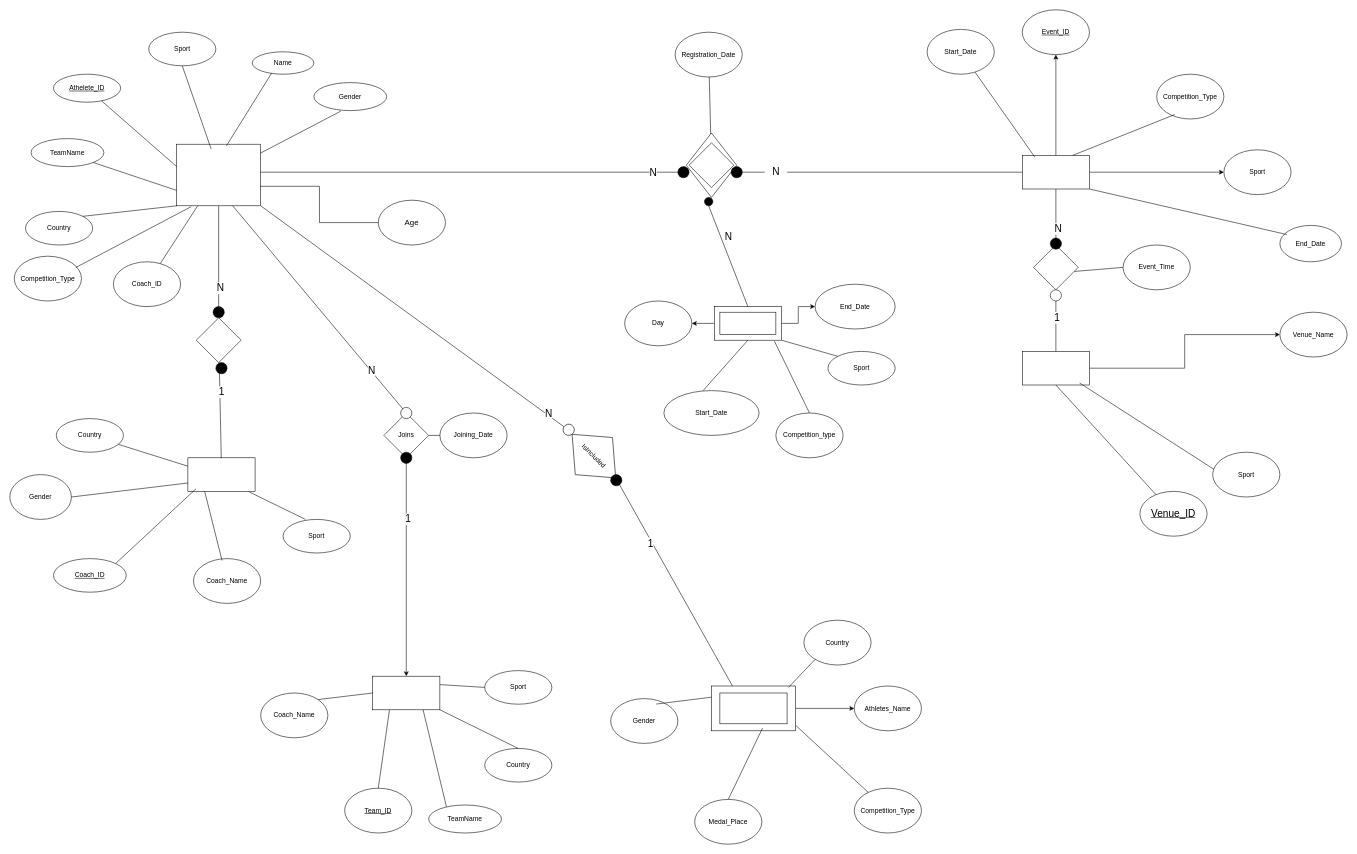
Some shapes in this 1357 by 854 pixel diagram are drawn without their labels. The shapes that lost their labels are listed below. From the top down, each one's centre as x and y in pixels, then its label:
point (218, 175): Athlete
point (711, 165): Register
point (1055, 172): Event
point (1055, 267): takes place
point (218, 340): Coached
point (747, 323): Schedule
point (1055, 368): Venue
point (221, 474): Coach
point (406, 693): Team
point (753, 708): Medallist
